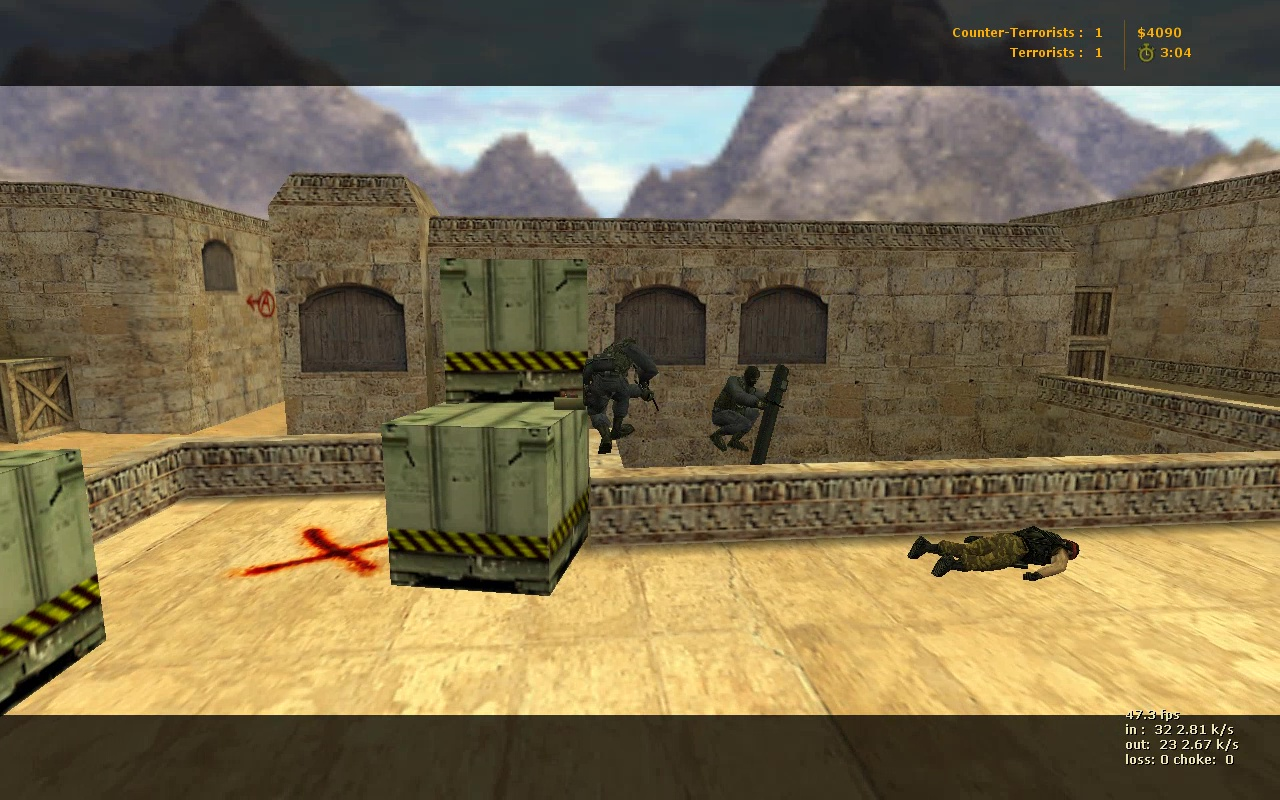ct: (578, 333, 663, 455), (709, 364, 789, 464)
dead: (905, 525, 1084, 578)
